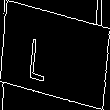L_N: (44, 28, 66, 82)
